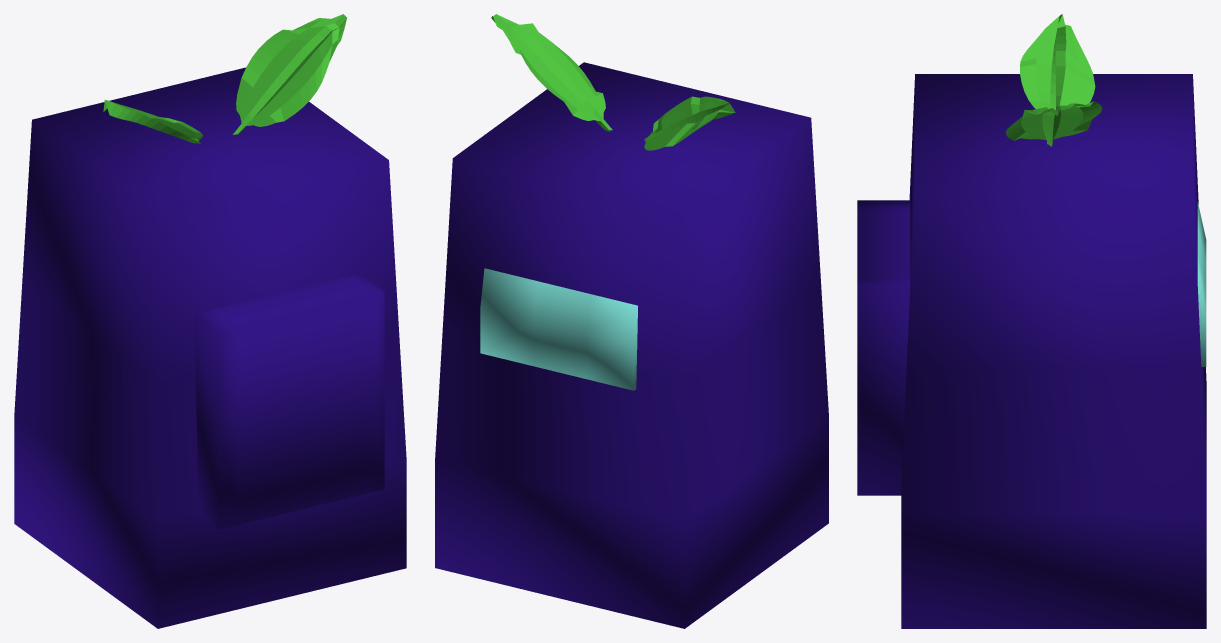
Rendered from metaverse.gltf.
3 views of the same model, side by side, from view 1: azimuth 30°, elevation 25°; view 2: azimuth 150°, elevation 25°; view 3: azimuth 270°, elevation 25° (orthographic). The views are drawn at different scales.
Visible parts, largest first — view 1: Cube, Cubo.001, Círculo, Círculo.001; view 2: Cube, Cubo, Círculo, Círculo.001; view 3: Cube, Cubo.001, Círculo.001, Círculo, Cubo.
Part boxes in pixels (bbox=[...]): Cube: bbox=[14, 67, 406, 628]; Cubo.001: bbox=[194, 274, 384, 529]; Círculo: bbox=[233, 14, 346, 136]; Círculo.001: bbox=[103, 100, 203, 143]; Cube: bbox=[435, 62, 828, 628]; Cubo: bbox=[480, 268, 637, 390]; Círculo: bbox=[491, 14, 612, 131]; Círculo.001: bbox=[644, 96, 735, 150]; Cube: bbox=[901, 74, 1206, 628]; Cubo.001: bbox=[857, 200, 910, 495]; Círculo.001: bbox=[1020, 14, 1095, 110]; Círculo: bbox=[1005, 101, 1102, 146]; Cubo: bbox=[1197, 202, 1206, 366].
Bounding box in the file's own units: 2.11 × 4.11 × 2.29.
